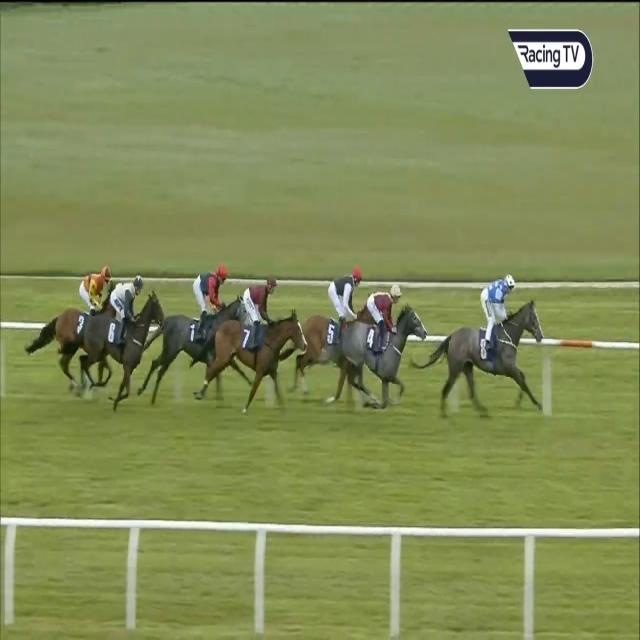horses-racing: (444, 277, 558, 423), (207, 277, 307, 413), (334, 282, 429, 419), (159, 263, 243, 392), (89, 274, 166, 398), (299, 266, 366, 373), (54, 264, 115, 379)
